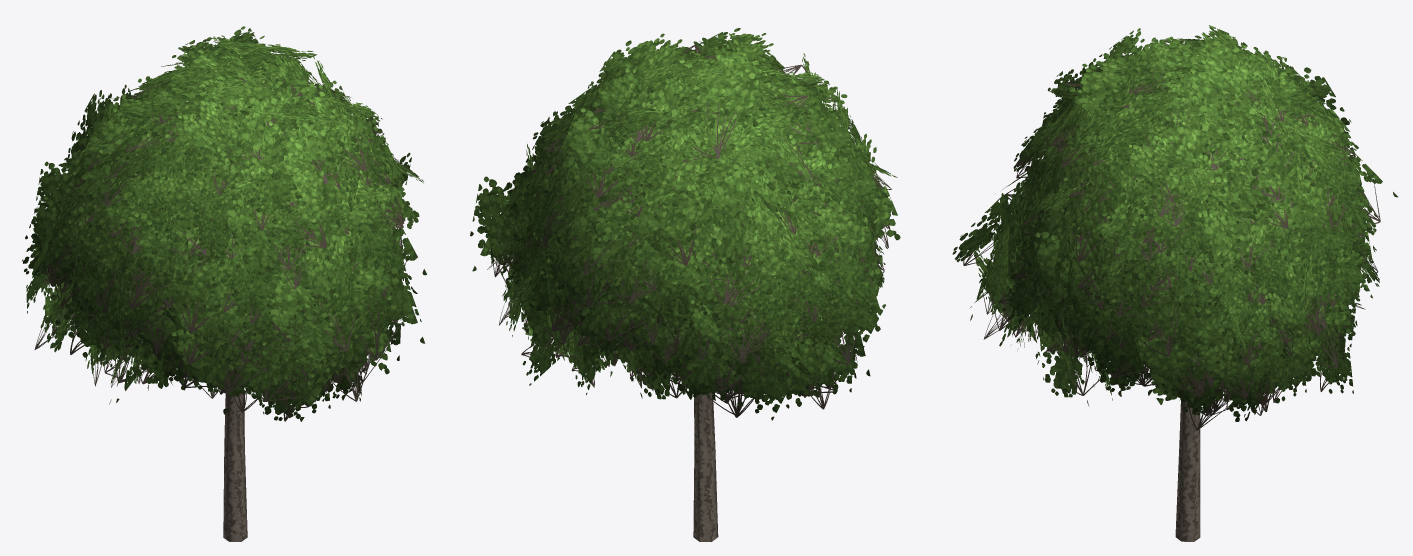
The model's file is tree_street.glb.
The picture shows the model from 3 angles, left to right: view 1: azimuth 30°, elevation 25°; view 2: azimuth 150°, elevation 25°; view 3: azimuth 270°, elevation 25°; orthographic projection. The views are drawn at different scales.
Parts seen in each view (by area): view 1: tree_street; view 2: tree_street; view 3: tree_street.
Part boxes in pixels (x1,y1,x2,y2): tree_street: [22, 26, 426, 541]; tree_street: [470, 28, 900, 541]; tree_street: [952, 25, 1397, 541].
Bounding box in the file's own units: 7.69 × 9.04 × 7.27.
Materials: 1 (1 with a texture image).
